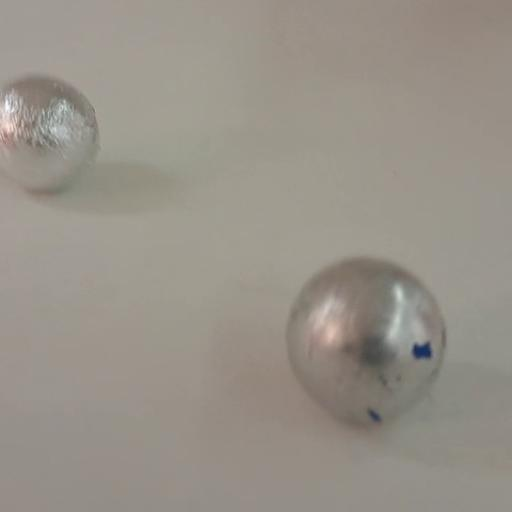alive: (282, 251, 453, 432), (0, 73, 101, 192)
